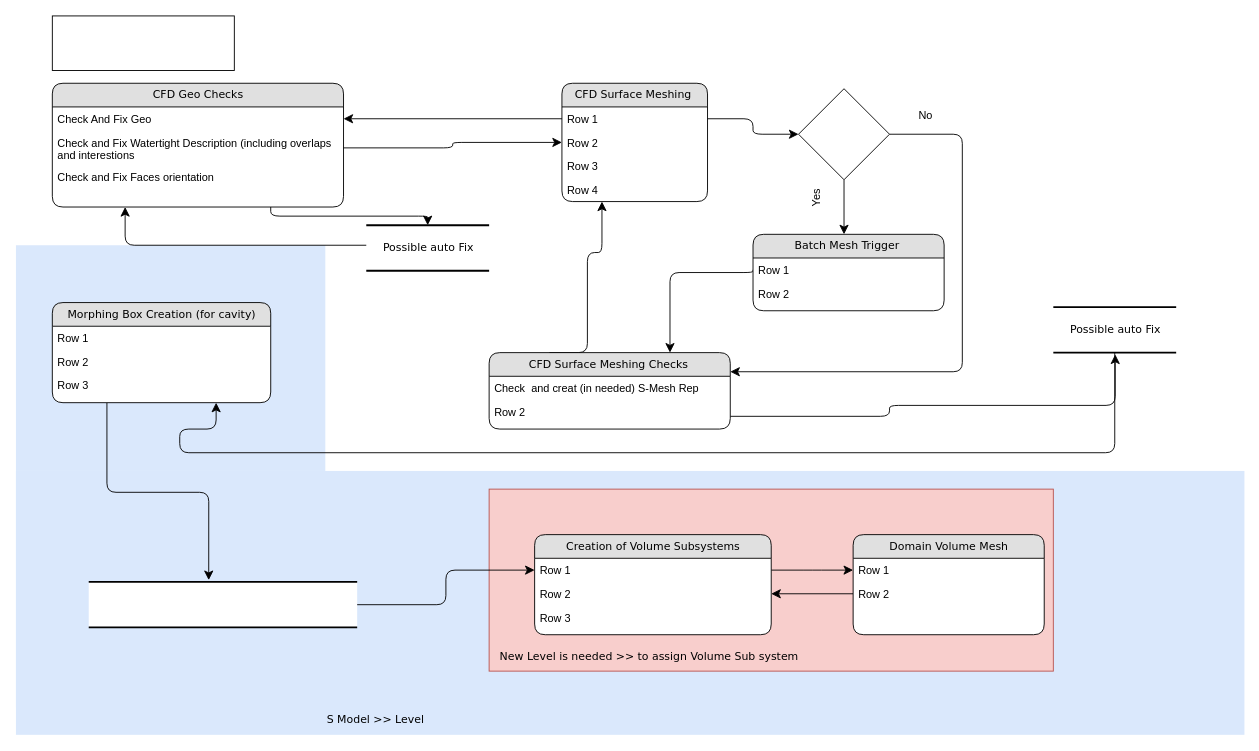
Image size: 1259x751. Some labels were removed from this diagram. The centre of each missing label's shape, as x and y in pixels:
"Group of Sub Systems With in one Cavity Box" goes at point 222,604.
"Not Meshed" goes at point 844,134.
"Sub System Build Process" goes at point 142,43.
